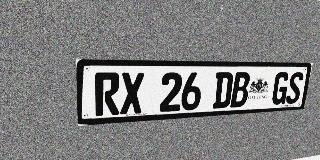2: (160, 72, 183, 112)
6: (181, 72, 203, 111)
B: (230, 72, 251, 108)
D: (212, 72, 234, 109)
G: (271, 72, 290, 105)
R: (95, 72, 120, 116)
S: (285, 72, 304, 104)
X: (120, 72, 144, 114)
